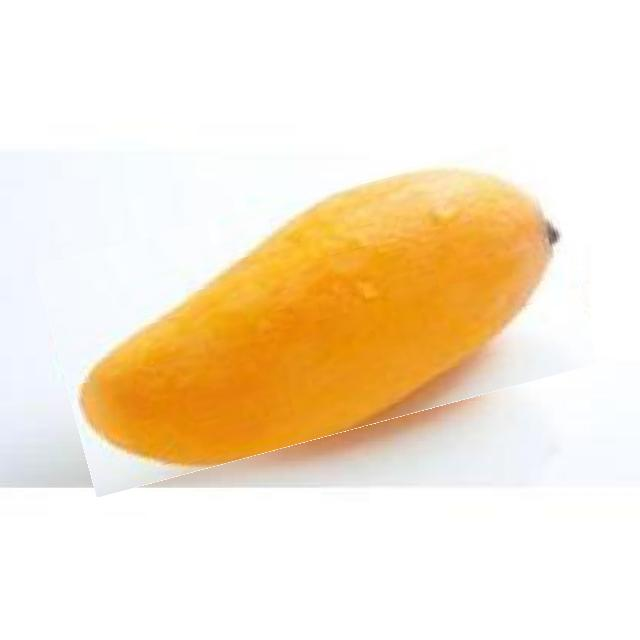mango: (48, 166, 586, 466)
